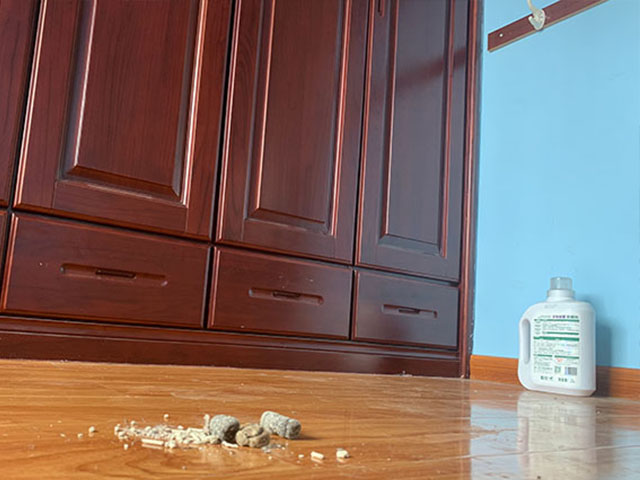cabinet: (1, 1, 475, 380)
feces: (206, 408, 304, 449)
